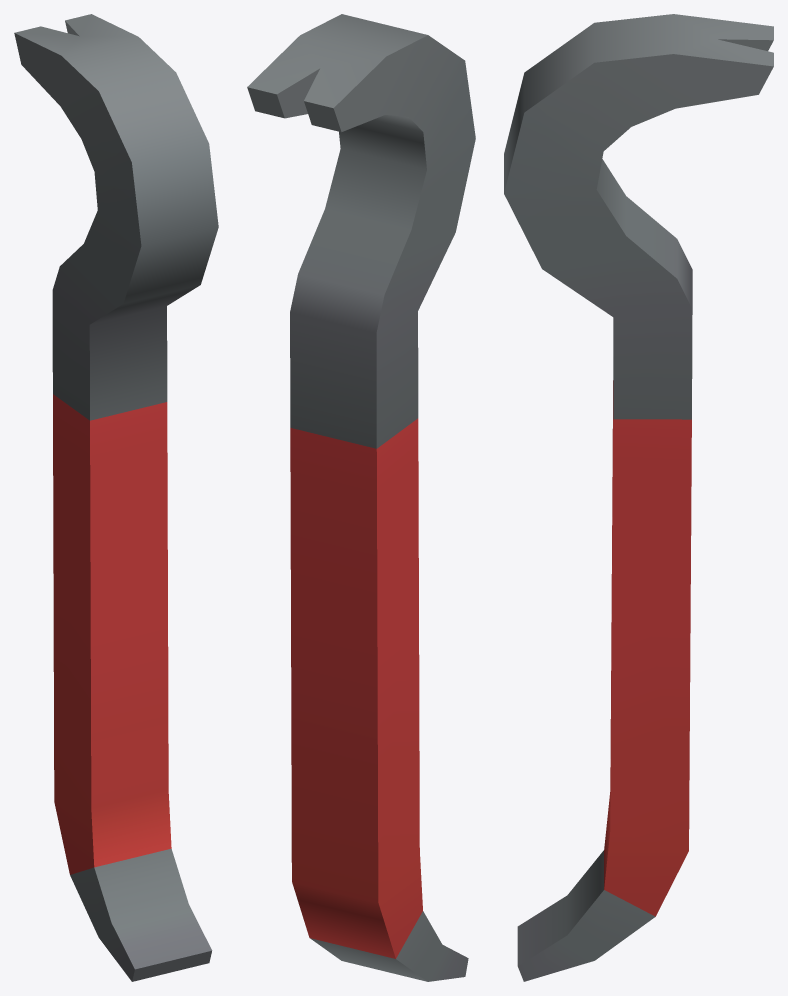
The model's file is MeleeWeaponAgent_Wrench03.fbx.
3 renders of one model, left to right at view 1: azimuth 30°, elevation 25°; view 2: azimuth 150°, elevation 25°; view 3: azimuth 270°, elevation 25°, orthographic. The views are drawn at different scales.
Parts seen in each view (by area): view 1: Wrench03; view 2: Wrench03; view 3: Wrench03.
Boxes of the visible parts, <box> form: Wrench03: <box>14,14,218,981</box>; Wrench03: <box>247,14,475,981</box>; Wrench03: <box>504,14,773,981</box>.
Bounding box in the file's own units: 0.1031 × 1.11 × 0.2939.
